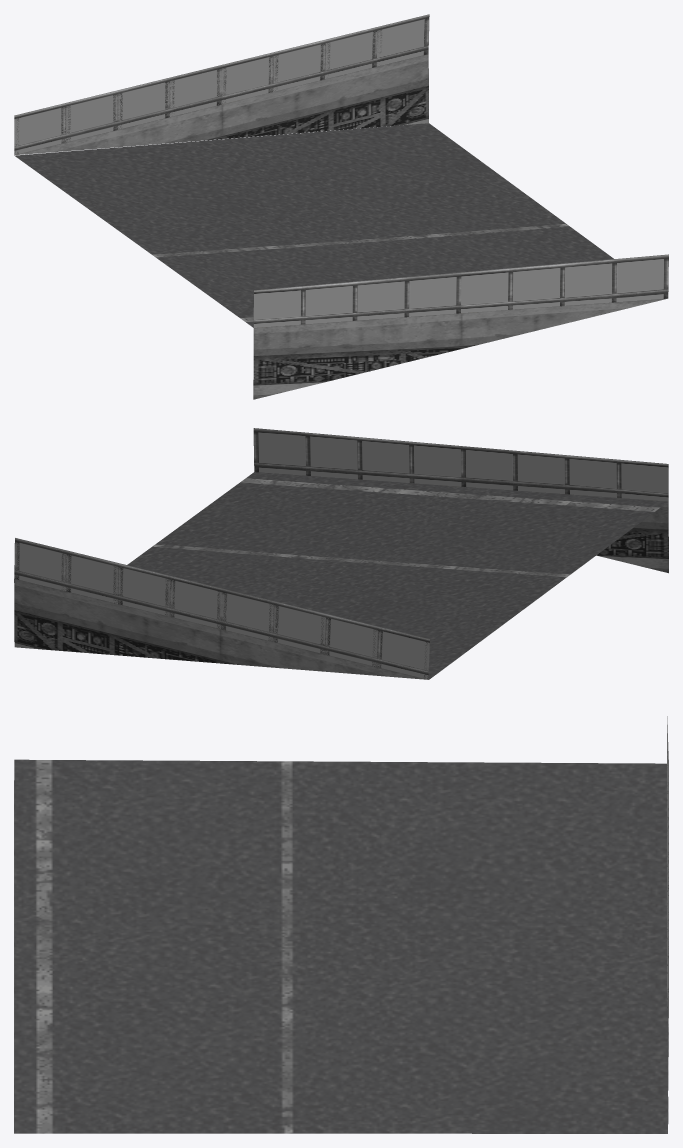
File: Tile-Slope00.fbx
The picture shows the model from 3 angles, top to bottom: view 1: azimuth 30°, elevation 25°; view 2: azimuth 150°, elevation 25°; view 3: azimuth 270°, elevation 25°; orthographic projection. The views are drawn at different scales.
Parts seen in each view (by area): view 1: polySurface10411; view 2: polySurface10411; view 3: polySurface10411.
Part boxes in pixels (box(x1,y1,x2,y2)): polySurface10411: box(14, 14, 668, 399); polySurface10411: box(14, 428, 668, 679); polySurface10411: box(14, 716, 668, 1133).
Bounding box in the file's own units: 1 × 0.2516 × 1.
